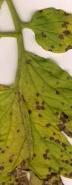Tomato Septoria leaf spot: (0, 55, 72, 185), (26, 1, 72, 64)
